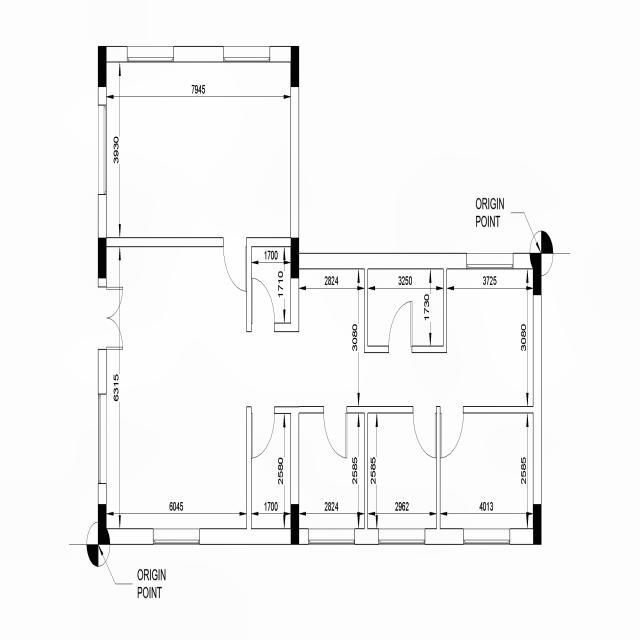Column: (532, 252, 542, 296), (290, 46, 300, 87), (290, 238, 300, 278), (290, 504, 300, 544), (532, 504, 542, 544), (98, 46, 106, 87), (98, 238, 106, 278), (98, 504, 106, 544)
Door: (223, 237, 247, 291), (324, 406, 347, 458), (413, 406, 436, 458), (440, 406, 463, 458), (389, 301, 412, 353), (252, 278, 274, 332), (252, 406, 274, 458)
Double-Door: (99, 287, 122, 350)
Window: (378, 528, 426, 544), (466, 253, 514, 269), (223, 46, 270, 62), (153, 528, 200, 544), (308, 528, 355, 544), (463, 528, 510, 544), (128, 46, 174, 62), (98, 105, 106, 195), (98, 394, 106, 484)
